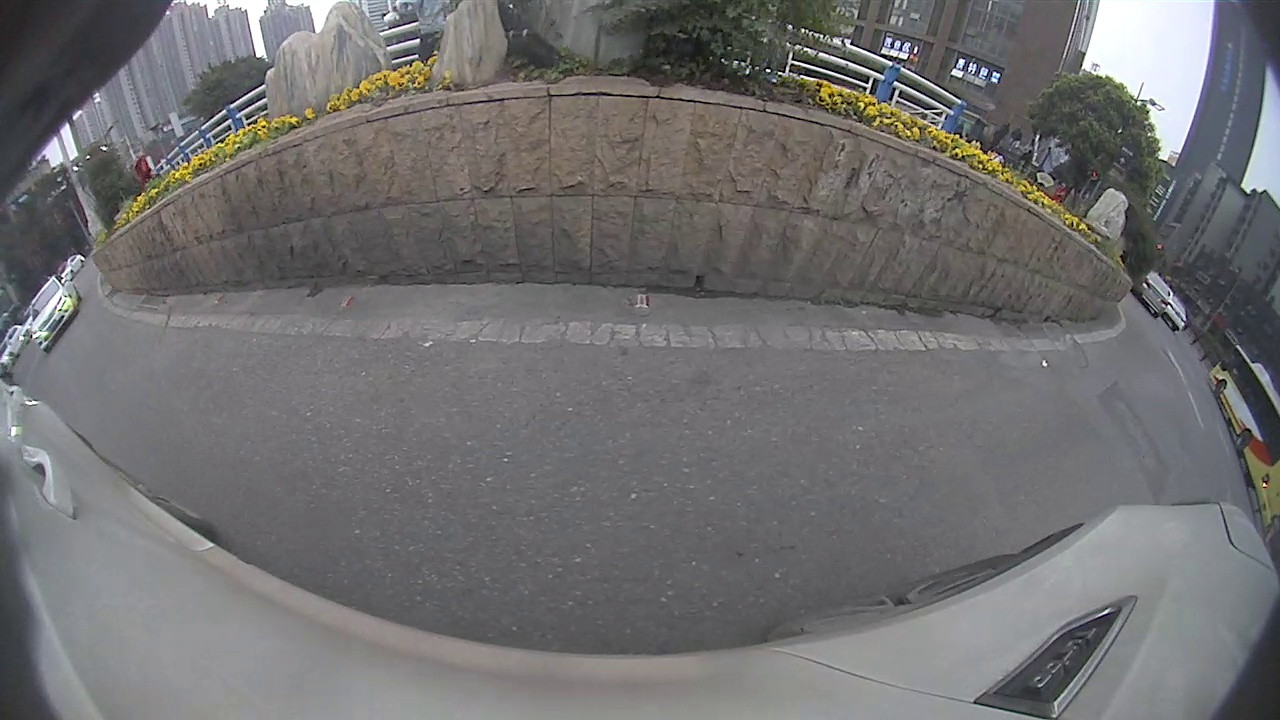bus: (1205, 340, 1279, 542)
car: (28, 271, 80, 356)
rear: (1234, 430, 1252, 453)
